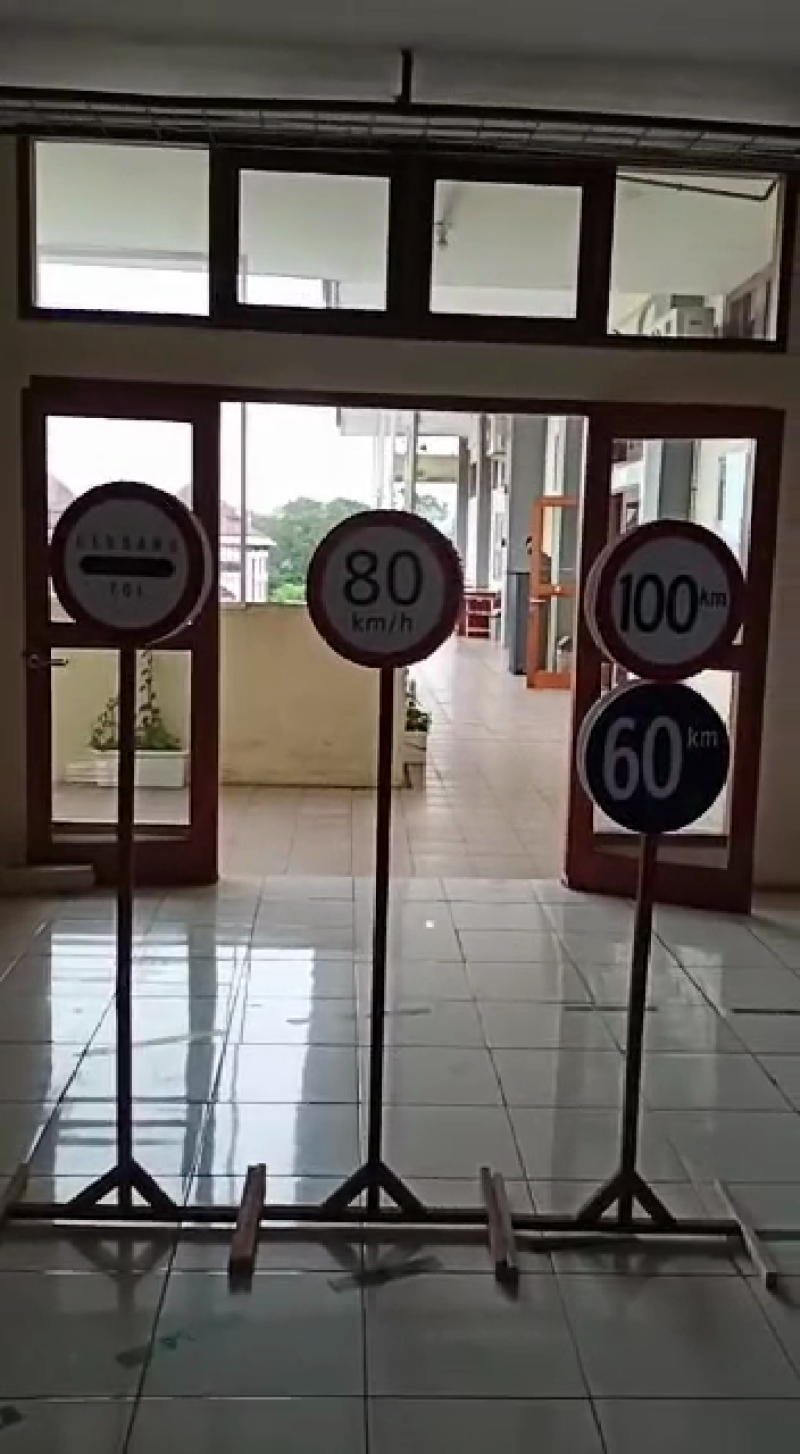batas maksimal 100kmperjam minimal 60kmperjam: (579, 522, 737, 829)
batas maksimal 80kmperjam: (303, 501, 466, 677)
gerbang tol: (44, 466, 222, 661)
